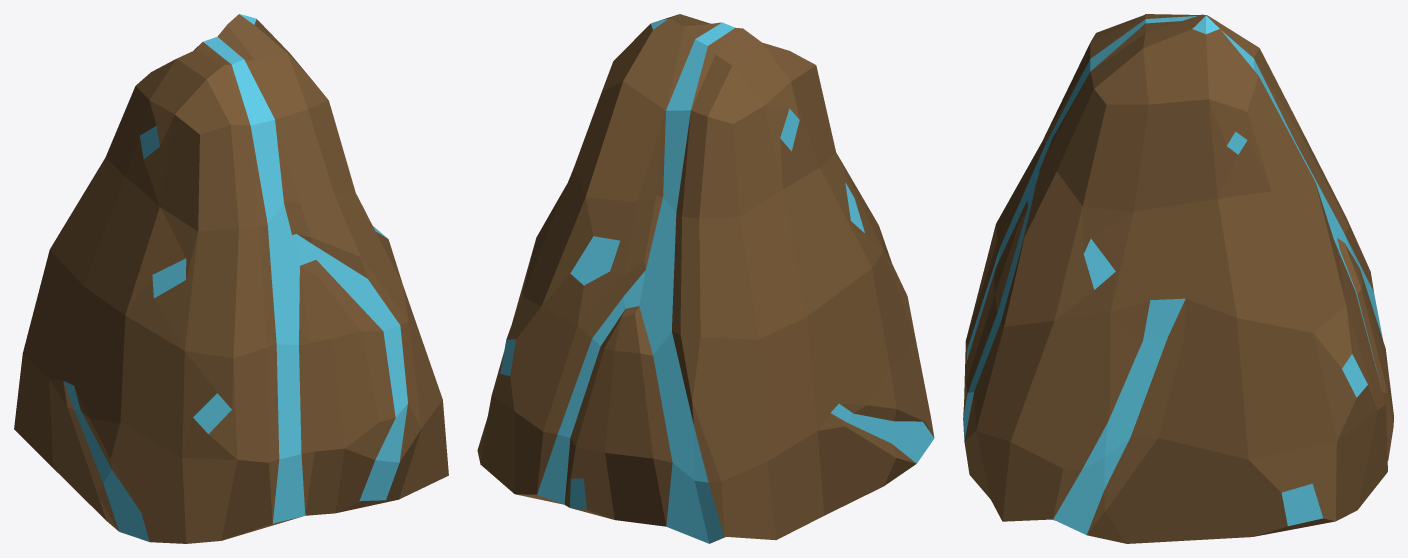
File: MithrilRock.glb
3 views of the same model, side by side, from view 1: azimuth 30°, elevation 25°; view 2: azimuth 150°, elevation 25°; view 3: azimuth 270°, elevation 25° (orthographic). The views are drawn at different scales.
Visible parts, largest first — view 1: MithrilRock; view 2: MithrilRock; view 3: MithrilRock.
Part boxes in pixels (x1,y1,x2,y2): MithrilRock: (14,14,448,543); MithrilRock: (477,14,934,543); MithrilRock: (963,14,1393,543).
Size of the model in its own units: 0.6998 by 0.9335 by 0.7637.
